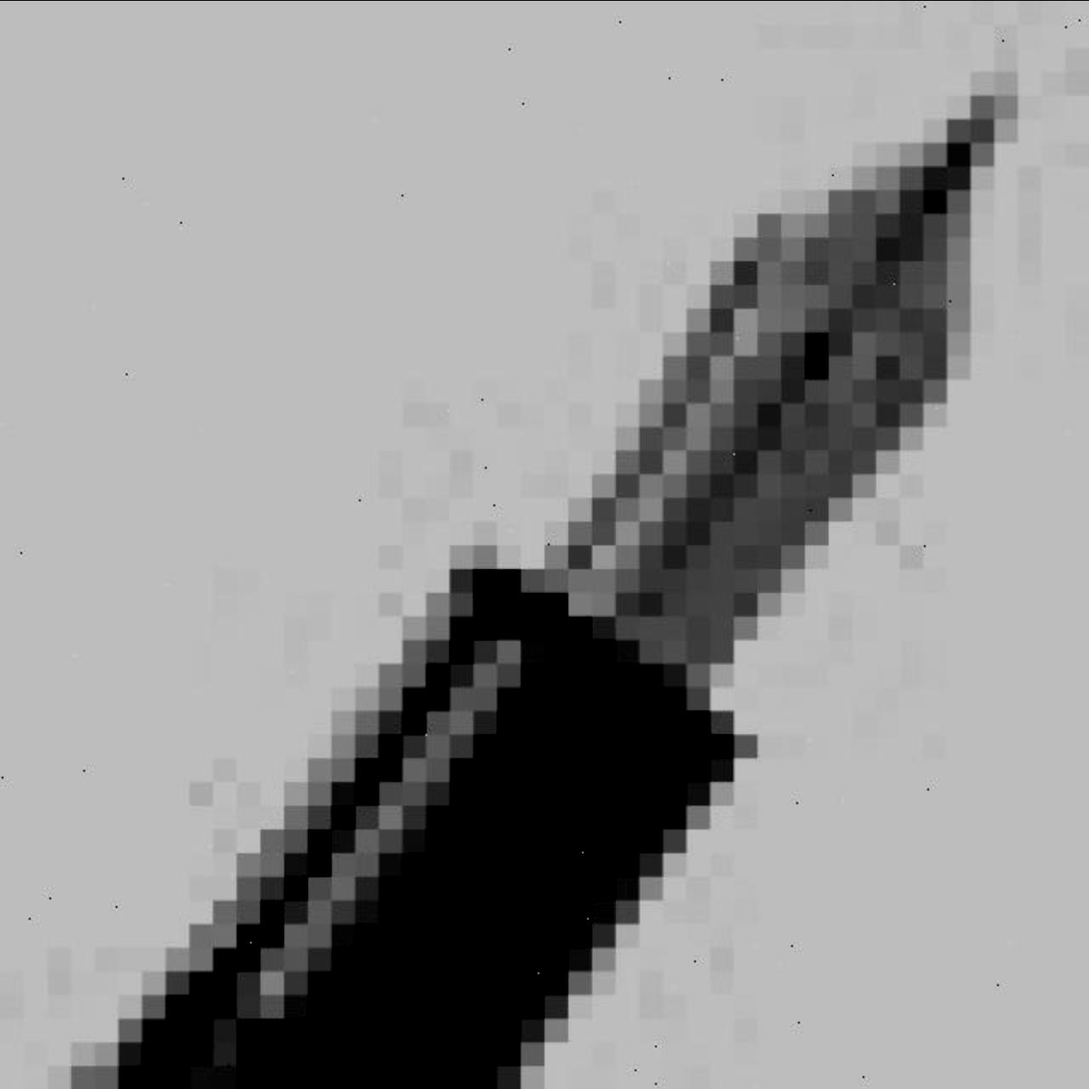pen: (63, 70, 1023, 1089)
